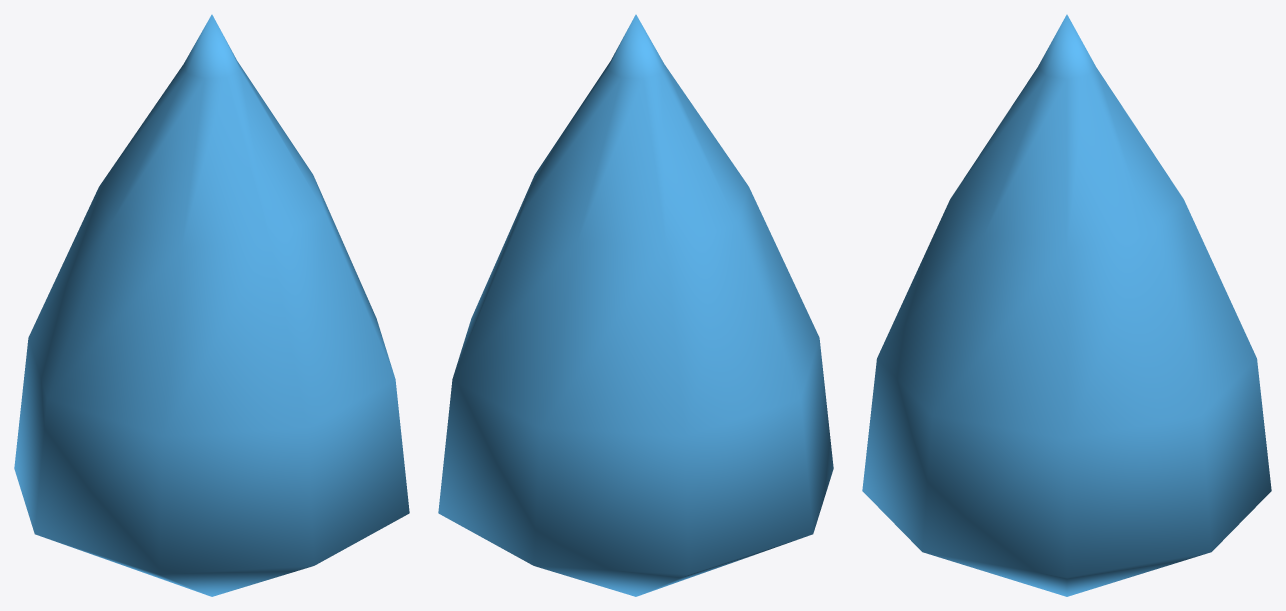
File: tear.glb
3 renders of one model, left to right at view 1: azimuth 30°, elevation 25°; view 2: azimuth 150°, elevation 25°; view 3: azimuth 270°, elevation 25°, orthographic.
Parts seen in each view (by area): view 1: Tear; view 2: Tear; view 3: Tear.
Part boxes in pixels (<box>): Tear: <box>14,14,409,596</box>; Tear: <box>438,14,833,596</box>; Tear: <box>862,14,1271,596</box>.
Bounding box in the file's own units: 0.28 × 0.44 × 0.28.
